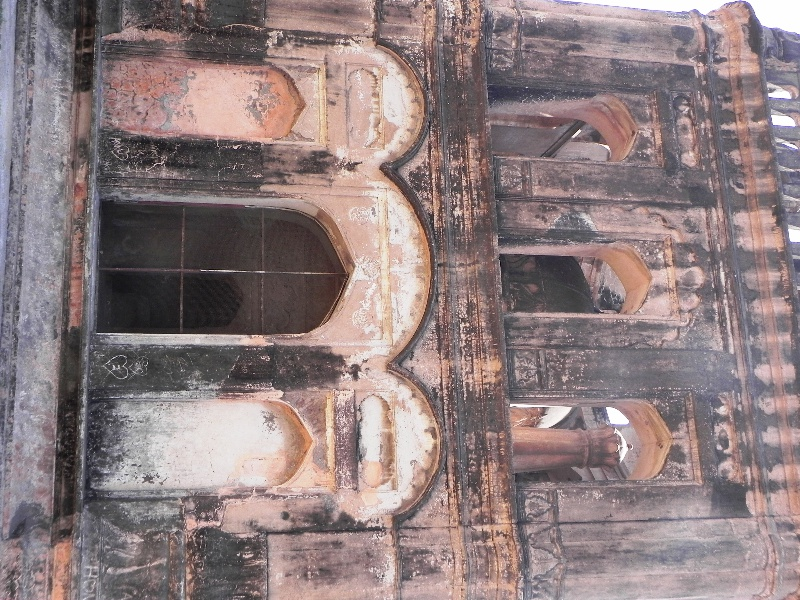Spalling: (335, 399, 343, 431)
